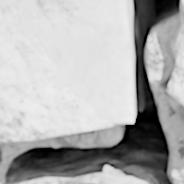brick: (0, 0, 133, 142), (167, 0, 183, 117), (14, 178, 113, 183)
crack: (1, 0, 181, 183)
